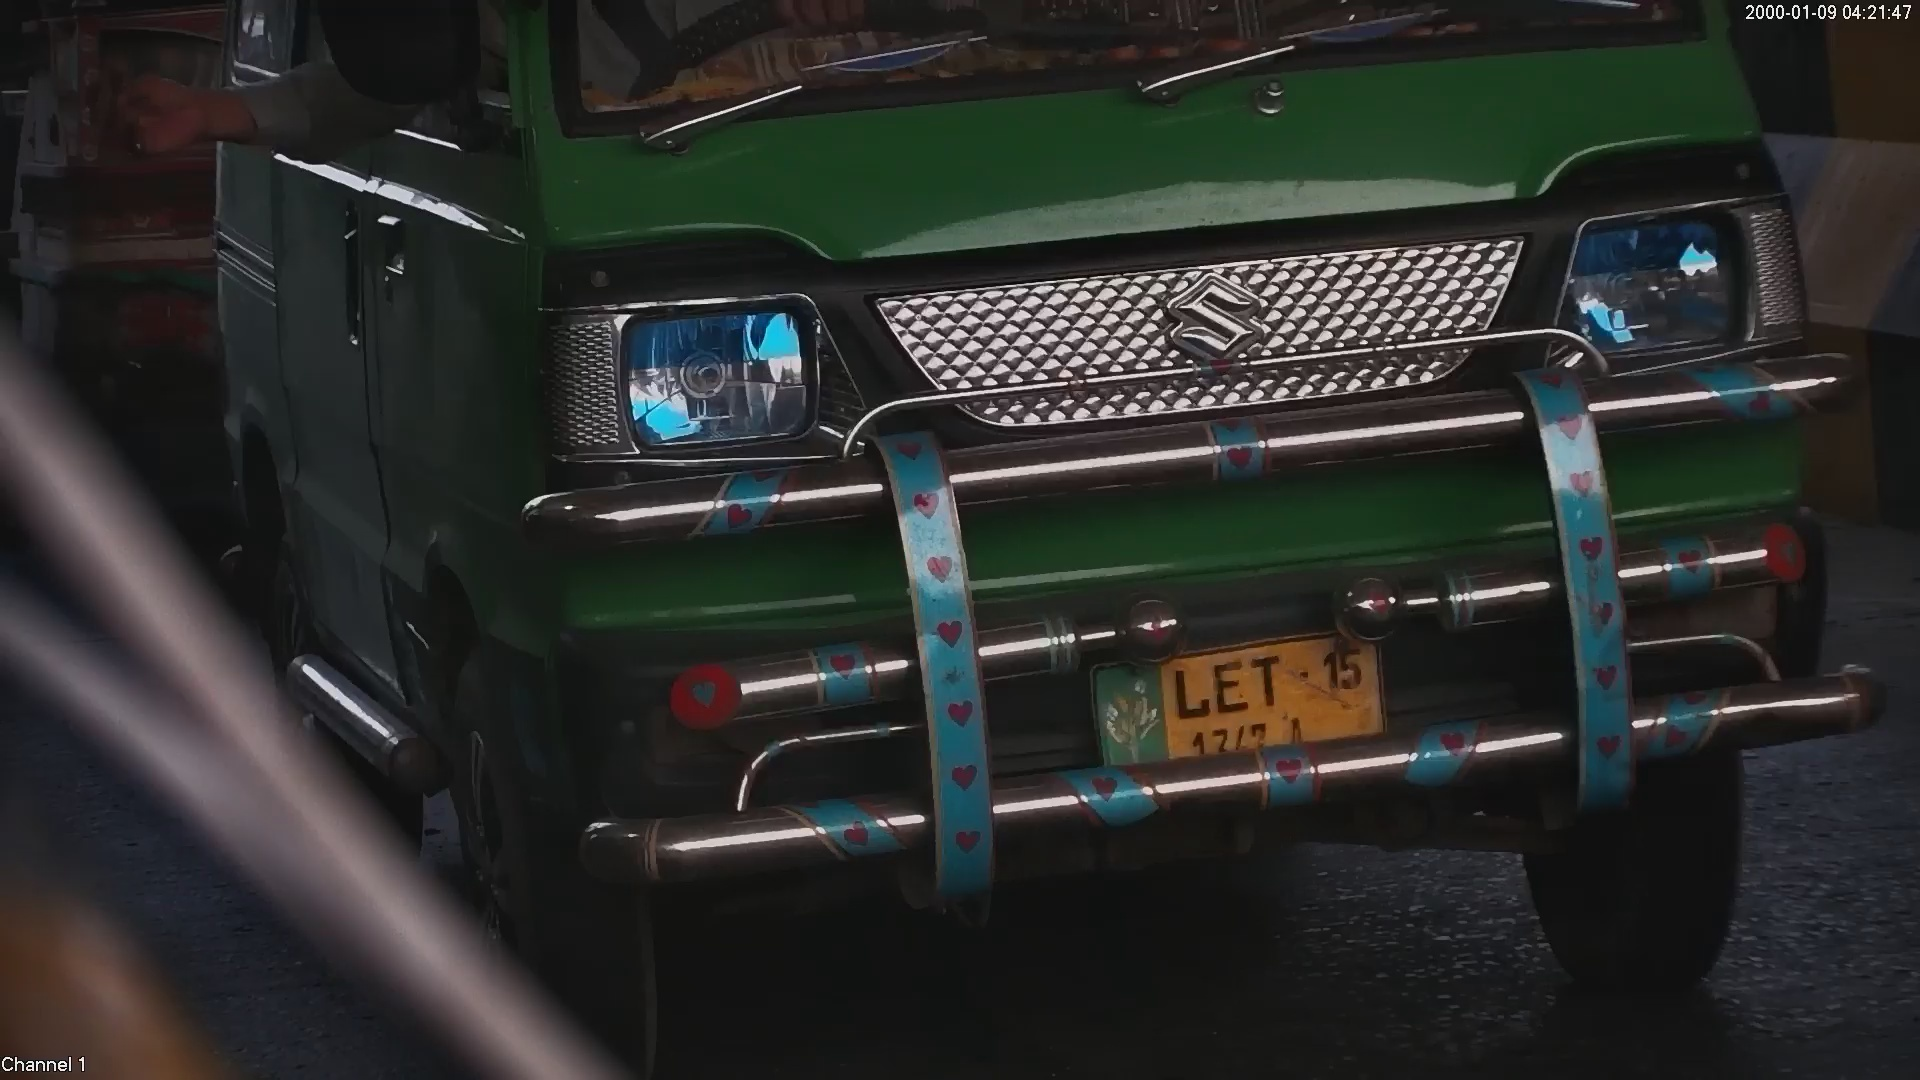Number_Plate: (1071, 616, 1408, 794)
Undefined: (521, 264, 860, 483), (1543, 181, 1810, 379), (1121, 257, 1287, 375)
